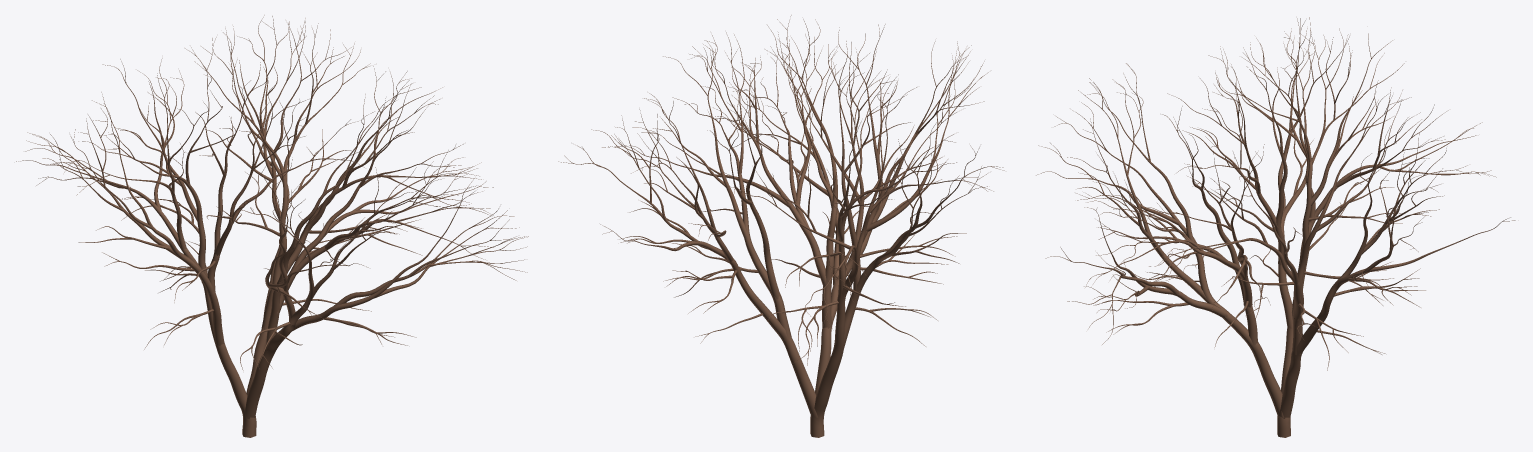
File: Tree.fbx
3 renders of one model, left to right at view 1: azimuth 30°, elevation 25°; view 2: azimuth 150°, elevation 25°; view 3: azimuth 270°, elevation 25°, orthographic.
Visible parts, largest first — view 1: tree; view 2: tree; view 3: tree.
Part boxes in pixels (x1,y1,x2,y2): tree: (16,15,528,437); tree: (558,15,1004,437); tree: (1036,17,1515,437).
Size of the model in its own units: 9.66 by 8.72 by 10.13.
